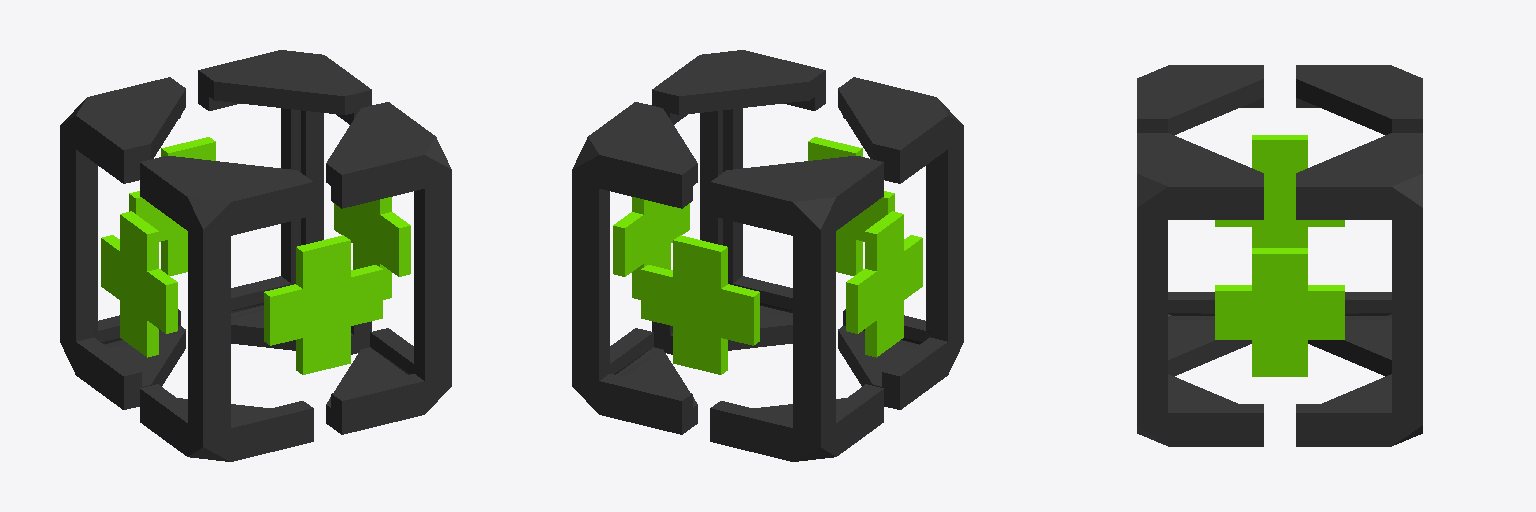
File: Pickup_Health.obj
3 views of the same model, side by side, from view 1: azimuth 30°, elevation 25°; view 2: azimuth 150°, elevation 25°; view 3: azimuth 270°, elevation 25° (orthographic).
Visible parts, largest first — view 1: Pickup_Health_Cube.022; view 2: Pickup_Health_Cube.022; view 3: Pickup_Health_Cube.022.
Part boxes in pixels (x1,y1,x2,y2): Pickup_Health_Cube.022: (60, 50, 451, 461); Pickup_Health_Cube.022: (572, 50, 963, 461); Pickup_Health_Cube.022: (1137, 65, 1422, 446).
Bounding box in the file's own units: 0.2413 × 0.2413 × 0.2413.